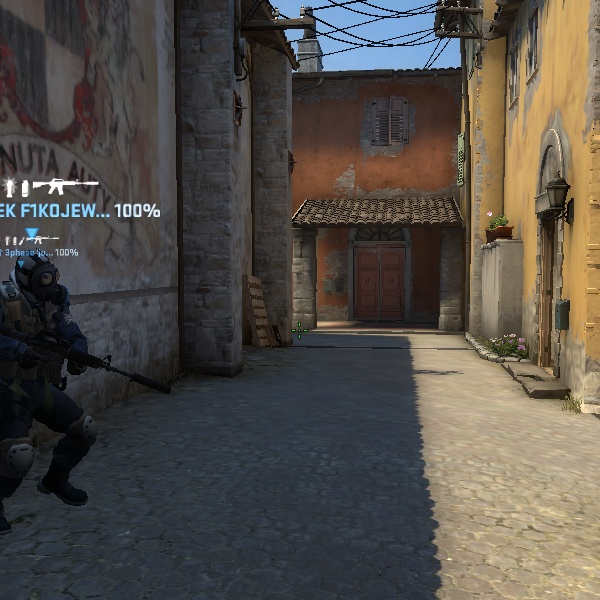ct_body: (4, 246, 122, 517)
ct_head: (8, 247, 78, 319)
